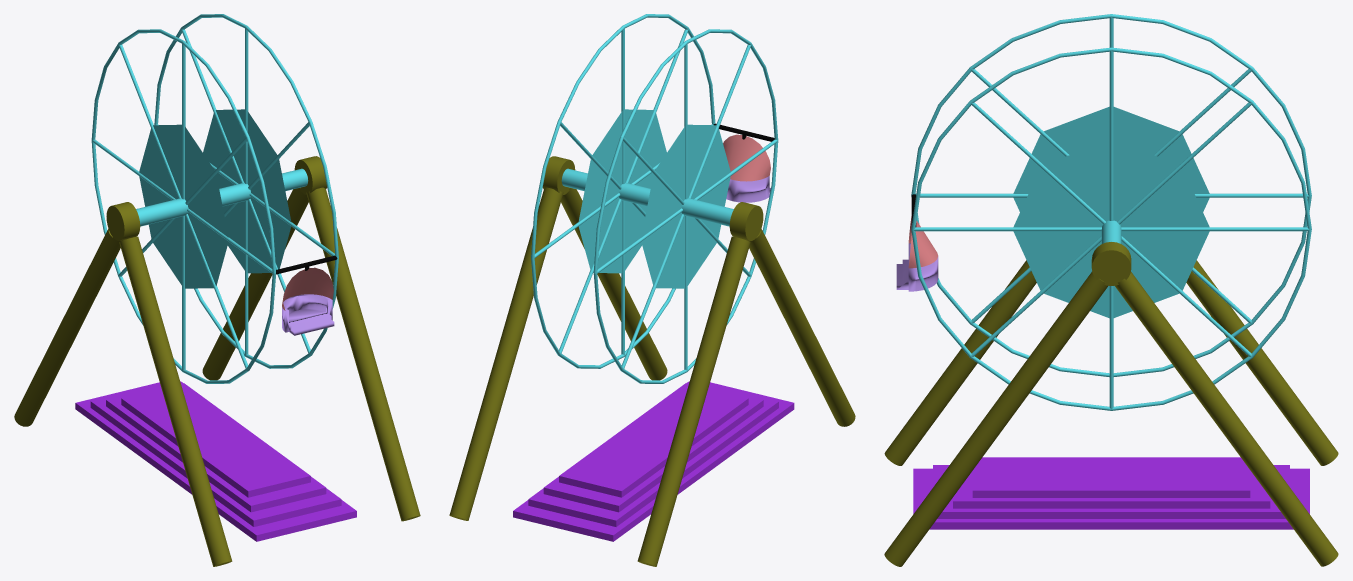
The model's file is wheeloffortune.glb.
3 renders of one model, left to right at view 1: azimuth 30°, elevation 25°; view 2: azimuth 150°, elevation 25°; view 3: azimuth 270°, elevation 25°, orthographic. The views are drawn at different scales.
Visible parts, largest first — view 1: wheels, bases, landders, chair; view 2: wheels, bases, landders, chair; view 3: wheels, bases, landders, chair.
Part boxes in pixels (<box>): wheels: <box>91,14,338,383</box>; bases: <box>14,156,420,566</box>; landders: <box>75,381,356,541</box>; chair: <box>276,255,337,335</box>; wheels: <box>531,14,778,383</box>; bases: <box>449,156,855,566</box>; landders: <box>513,381,794,541</box>; chair: <box>713,123,774,202</box>; wheels: <box>911,14,1311,410</box>; bases: <box>884,242,1338,566</box>; landders: <box>913,457,1309,529</box>; chair: <box>896,194,938,291</box>.
Size of what is drawn, in the model's own units: 5.24 by 10.75 by 9.16.
